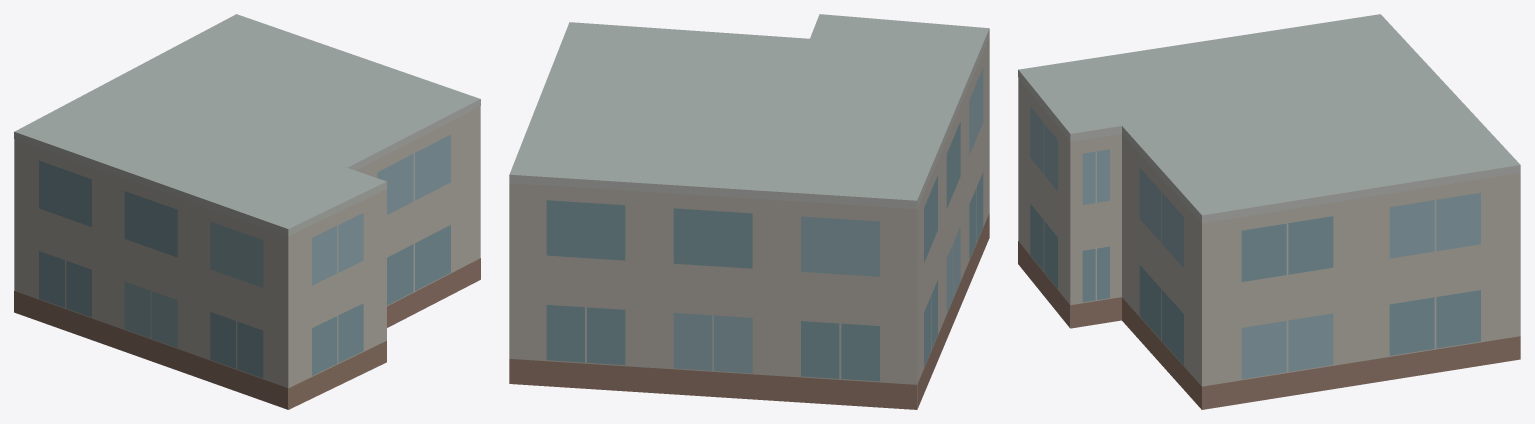
The model's file is survey-upis-32835775.glb.
The picture shows the model from 3 angles, left to right: view 1: azimuth 30°, elevation 25°; view 2: azimuth 150°, elevation 25°; view 3: azimuth 270°, elevation 25°; orthographic projection. The views are drawn at different scales.
Visible parts, largest first — view 1: survey-upis-32835775.tmp; view 2: survey-upis-32835775.tmp; view 3: survey-upis-32835775.tmp.
Part boxes in pixels (left/top/right/bottom): survey-upis-32835775.tmp: left=14, top=14, right=480, bottom=409; survey-upis-32835775.tmp: left=509, top=14, right=989, bottom=409; survey-upis-32835775.tmp: left=1018, top=14, right=1520, bottom=409.
Bounding box in the file's own units: 13.55 × 6.1 × 14.29.
